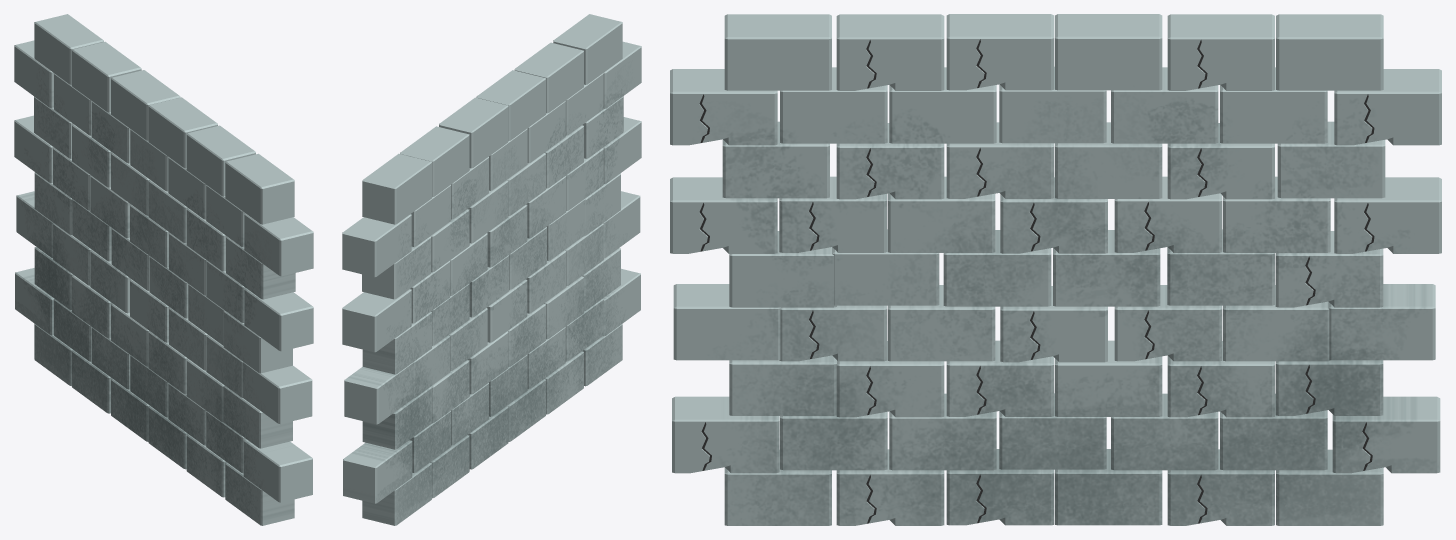
File: parede sem janela 2.fbx
3 views of the same model, side by side, from view 1: azimuth 30°, elevation 25°; view 2: azimuth 150°, elevation 25°; view 3: azimuth 270°, elevation 25° (orthographic). The views are drawn at different scales.
Parts seen in each view (by area): view 1: Cube.001; view 2: Cube.001; view 3: Cube.001.
Part boxes in pixels (left/top/right/bottom): Cube.001: left=14, top=14, right=313, bottom=525; Cube.001: left=342, top=14, right=641, bottom=525; Cube.001: left=670, top=14, right=1441, bottom=525.
Size of the model in its own units: 152 by 1435 by 2055.
